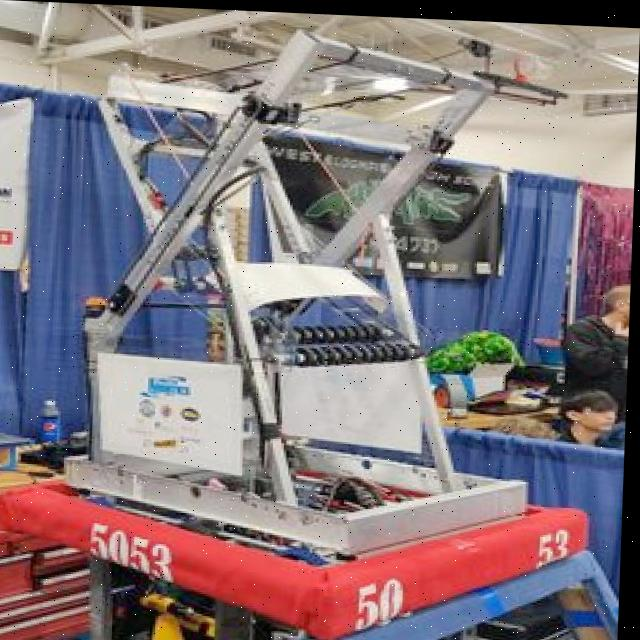robot: (8, 27, 617, 638)
